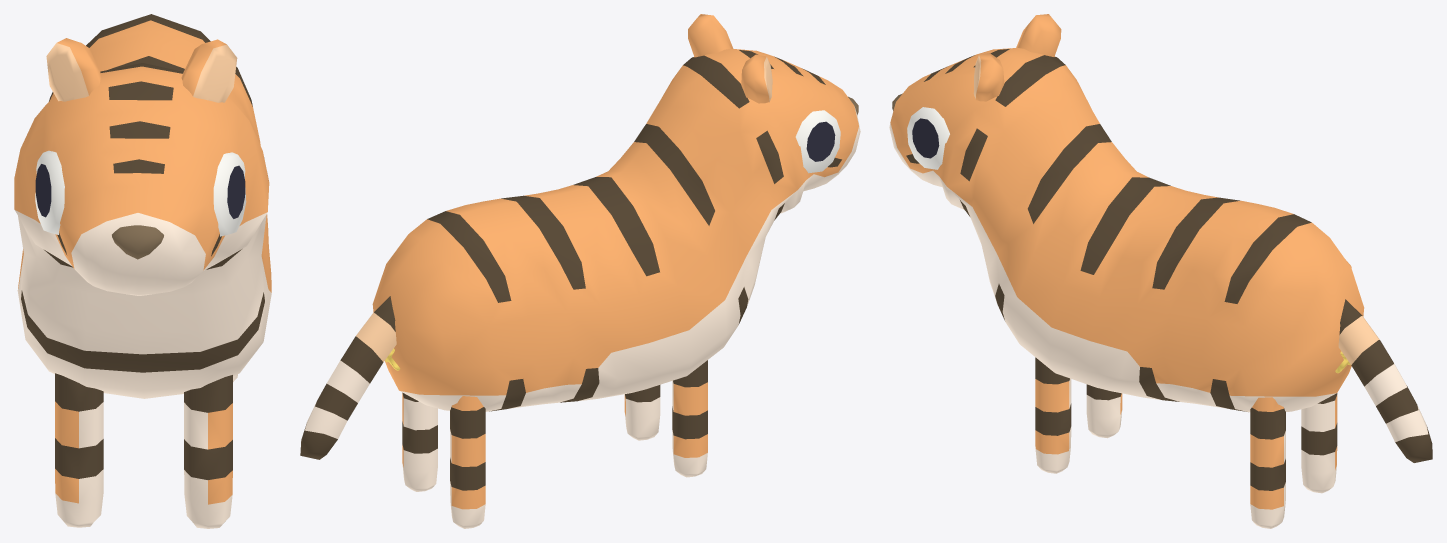
Rendered from tiger.gltf.
3 renders of one model, left to right at view 1: azimuth 30°, elevation 25°; view 2: azimuth 150°, elevation 25°; view 3: azimuth 270°, elevation 25°, orthographic. The views are drawn at different scales.
Parts seen in each view (by area): view 1: huitugou_5168_03; view 2: huitugou_5168_03; view 3: huitugou_5168_03.
Part boxes in pixels (box(x1,y1,x2,y2)): huitugou_5168_03: box(14, 14, 271, 528); huitugou_5168_03: box(300, 14, 860, 528); huitugou_5168_03: box(889, 14, 1432, 528).
Size of the model in its own units: 0.4566 by 0.5557 by 0.6862.
Materials: 1 (1 with a texture image).
